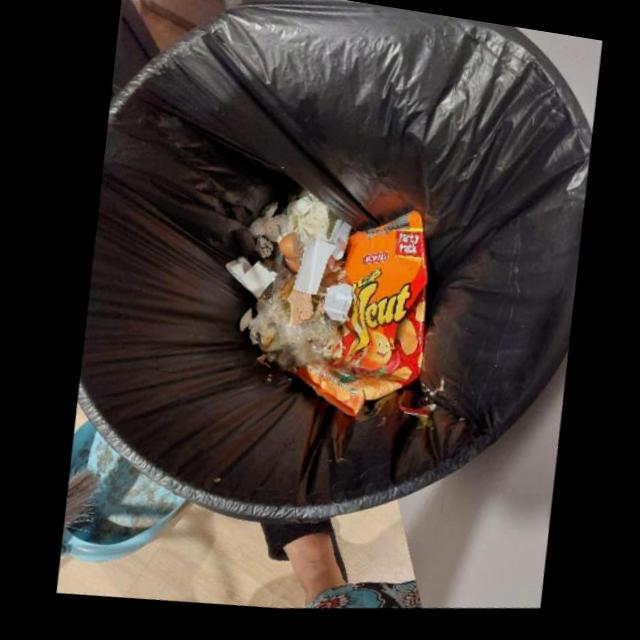bao_bi_thuc_pham: (294, 219, 424, 423)
giay: (290, 225, 348, 300), (247, 203, 327, 248)
vo_trung: (276, 238, 299, 265), (283, 262, 298, 278)
